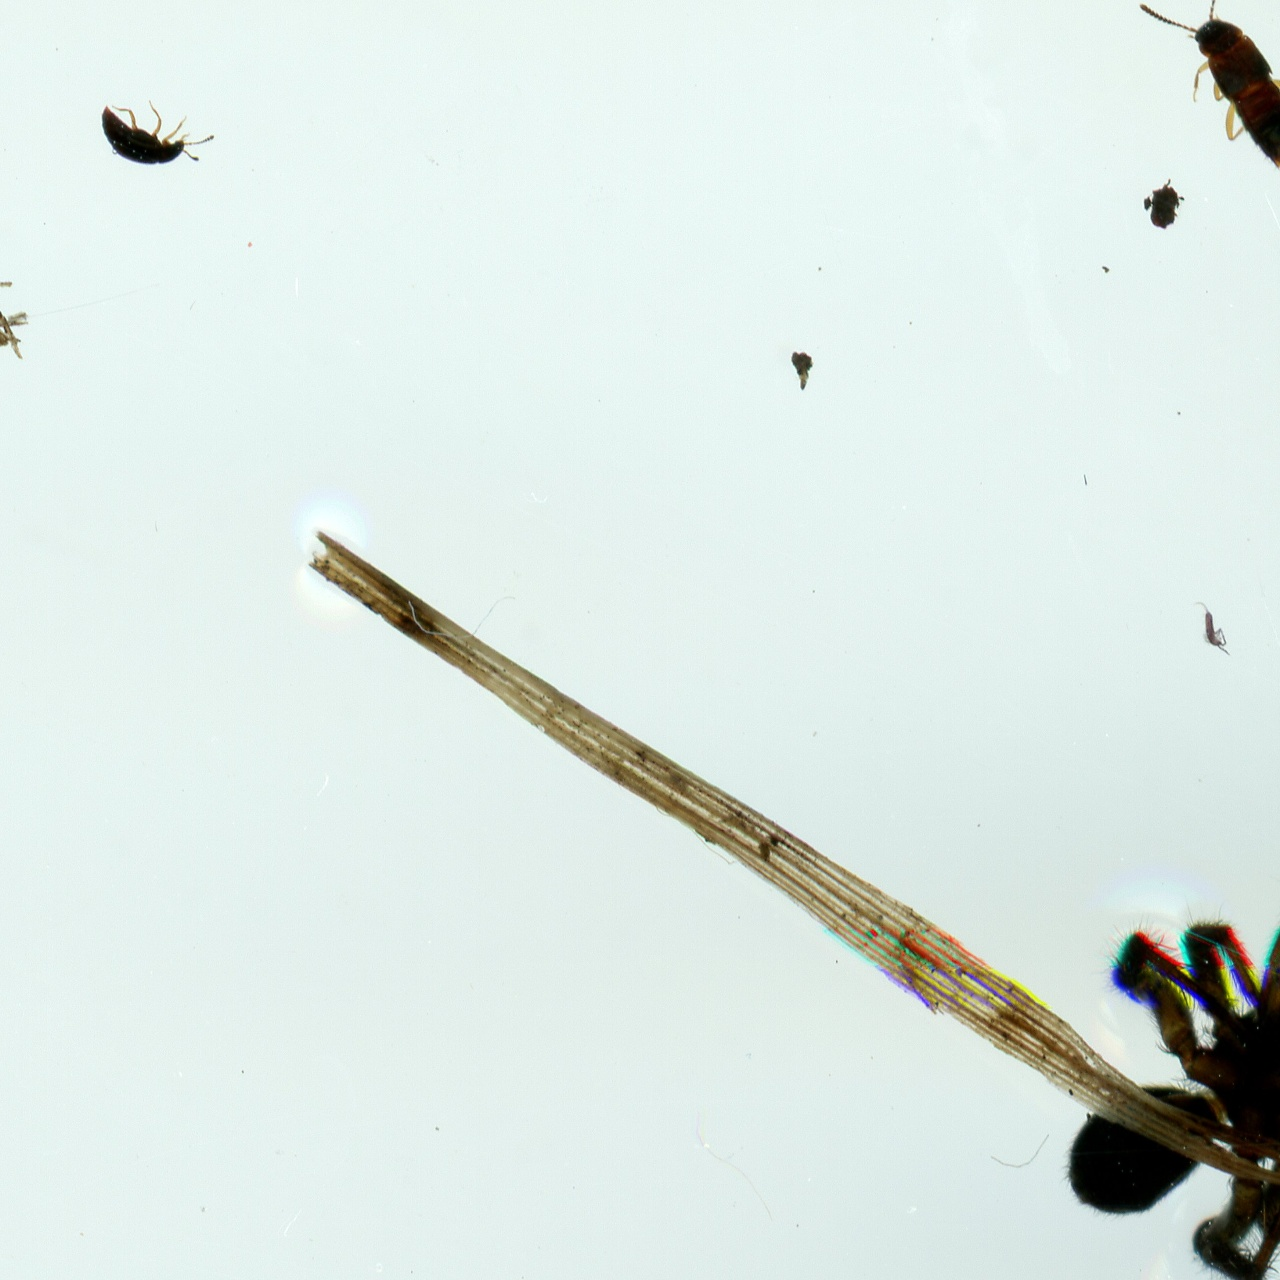arthropod: (1044, 836, 1280, 1280), (1114, 0, 1280, 213), (90, 93, 223, 180), (1178, 576, 1246, 662)
